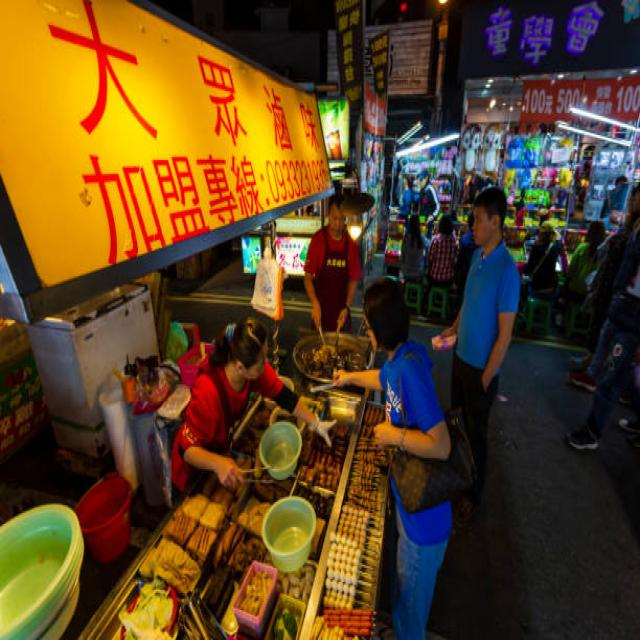Emperan: (0, 20, 438, 640)
